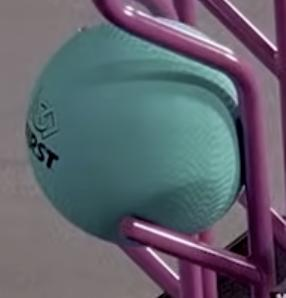algae: (27, 18, 246, 247)
